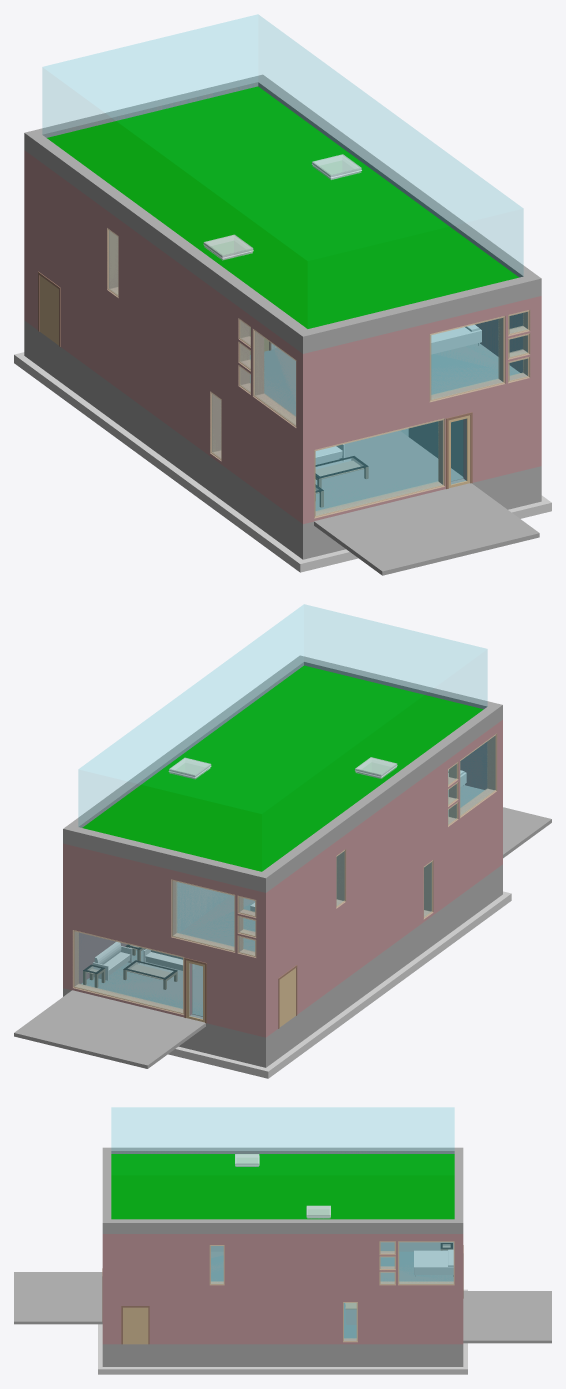
3 views of the same model, one above another, from view 1: azimuth 30°, elevation 25°; view 2: azimuth 150°, elevation 25°; view 3: azimuth 270°, elevation 25° (orthographic). The views are drawn at different scales.
Visible parts, largest first — view 1: 3ThA22djr8AQQ9eQMA5s7I, 0pNy6pOyf7JPmXRLgxs3sW, 2O2Fr$t4X7Zf8NOew3FNhv, 2O2Fr$t4X7Zf8NOew3FLPP, 2O2Fr$t4X7Zf8NOew3FLOH, 1CZILmCaHETO8tf3SgGEXu, 2O2Fr$t4X7Zf8NOew3FNr2, 2O2Fr$t4X7Zf8NOew3FKE5, 1hOSvn6df7F8_7GcBWlRBU, 0jf0rYHfX3RAB3bSIRjmr1, 2OBrcmyk58NupXoVOHUtxr, 0jf0rYHfX3RAB3bSIRjmoa (+20 smaller); view 2: 3ThA22djr8AQQ9eQMA5s7I, 0pNy6pOyf7JPmXRLgxs3sW, 2O2Fr$t4X7Zf8NOew3FNhv, 2O2Fr$t4X7Zf8NOew3FLPP, 2O2Fr$t4X7Zf8NOew3FLQD, 2O2Fr$t4X7Zf8NOew3FNtn, 1CZILmCaHETO8tf3SgGEWh, 2O2Fr$t4X7Zf8NOew3FKE5, 1hOSvn6df7F8_7GcBWlR72, 0jf0rYHfX3RAB3bSIRjmr1, 0jf0rYHfX3RAB3bSIRjmmy, 1hOSvn6df7F8_7GcBWlSXO (+20 smaller); view 3: 3ThA22djr8AQQ9eQMA5s7I, 2O2Fr$t4X7Zf8NOew3FNqI, 2O2Fr$t4X7Zf8NOew3FLR9, 0pNy6pOyf7JPmXRLgxs3sW, 2O2Fr$t4X7Zf8NOew3FK9N, 0jf0rYHfX3RAB3bSIRjmpw, 1CZILmCaHETO8tf3SgGEXu, 1CZILmCaHETO8tf3SgGEWh, 0kF45Qs8L9PAM9kmb1lT5d, 1l0GAJtRTFv8$zmKJOH4pU, 0jf0rYHfX3RAB3bSIRjmr1, 1hOSvn6df7F8_7GcBWlRGQ (+10 smaller).
Part boxes in pixels (bbox=[...]): 3ThA22djr8AQQ9eQMA5s7I: bbox=[47, 86, 518, 328]; 0pNy6pOyf7JPmXRLgxs3sW: bbox=[43, 15, 522, 276]; 2O2Fr$t4X7Zf8NOew3FNhv: bbox=[31, 237, 296, 518]; 2O2Fr$t4X7Zf8NOew3FLPP: bbox=[24, 150, 302, 435]; 2O2Fr$t4X7Zf8NOew3FLOH: bbox=[303, 296, 541, 436]; 1CZILmCaHETO8tf3SgGEXu: bbox=[314, 483, 539, 575]; 2O2Fr$t4X7Zf8NOew3FNr2: bbox=[296, 381, 530, 524]; 2O2Fr$t4X7Zf8NOew3FKE5: bbox=[31, 325, 296, 554]; 1hOSvn6df7F8_7GcBWlRBU: bbox=[314, 418, 445, 518]; 0jf0rYHfX3RAB3bSIRjmr1: bbox=[31, 135, 307, 348]; 2OBrcmyk58NupXoVOHUtxr: bbox=[315, 428, 463, 511]; 0jf0rYHfX3RAB3bSIRjmoa: bbox=[296, 276, 530, 353]; 3ThA22djr8AQQ9eQMA5s7I: bbox=[82, 665, 483, 871]; 0pNy6pOyf7JPmXRLgxs3sW: bbox=[79, 605, 486, 826]; 2O2Fr$t4X7Zf8NOew3FNhv: bbox=[271, 794, 497, 1032]; 2O2Fr$t4X7Zf8NOew3FLPP: bbox=[266, 720, 502, 962]; 2O2Fr$t4X7Zf8NOew3FLQD: bbox=[63, 843, 265, 962]; 2O2Fr$t4X7Zf8NOew3FNtn: bbox=[63, 913, 271, 1037]; 1CZILmCaHETO8tf3SgGEWh: bbox=[14, 990, 205, 1068]; 2O2Fr$t4X7Zf8NOew3FKE5: bbox=[271, 869, 497, 1063]; 1hOSvn6df7F8_7GcBWlR72: bbox=[72, 930, 184, 1014]; 0jf0rYHfX3RAB3bSIRjmr1: bbox=[262, 706, 497, 888]; 0jf0rYHfX3RAB3bSIRjmmy: bbox=[63, 825, 271, 892]; 1hOSvn6df7F8_7GcBWlSXO: bbox=[171, 879, 235, 952]; 3ThA22djr8AQQ9eQMA5s7I: bbox=[111, 1154, 454, 1219]; 2O2Fr$t4X7Zf8NOew3FNqI: bbox=[102, 1287, 454, 1344]; 2O2Fr$t4X7Zf8NOew3FLR9: bbox=[102, 1234, 463, 1287]; 0pNy6pOyf7JPmXRLgxs3sW: bbox=[112, 1108, 453, 1153]; 2O2Fr$t4X7Zf8NOew3FK9N: bbox=[102, 1344, 454, 1366]; 0jf0rYHfX3RAB3bSIRjmpw: bbox=[102, 1219, 454, 1233]; 1CZILmCaHETO8tf3SgGEXu: bbox=[14, 1272, 102, 1324]; 1CZILmCaHETO8tf3SgGEWh: bbox=[463, 1291, 551, 1343]; 0kF45Qs8L9PAM9kmb1lT5d: bbox=[98, 1361, 467, 1374]; 1l0GAJtRTFv8$zmKJOH4pU: bbox=[398, 1241, 454, 1285]; 0jf0rYHfX3RAB3bSIRjmr1: bbox=[111, 1147, 454, 1153]; 1hOSvn6df7F8_7GcBWlRGQ: bbox=[121, 1306, 149, 1344].
Bounding box in the file's own units: 9.28 × 10.55 × 26.57.
